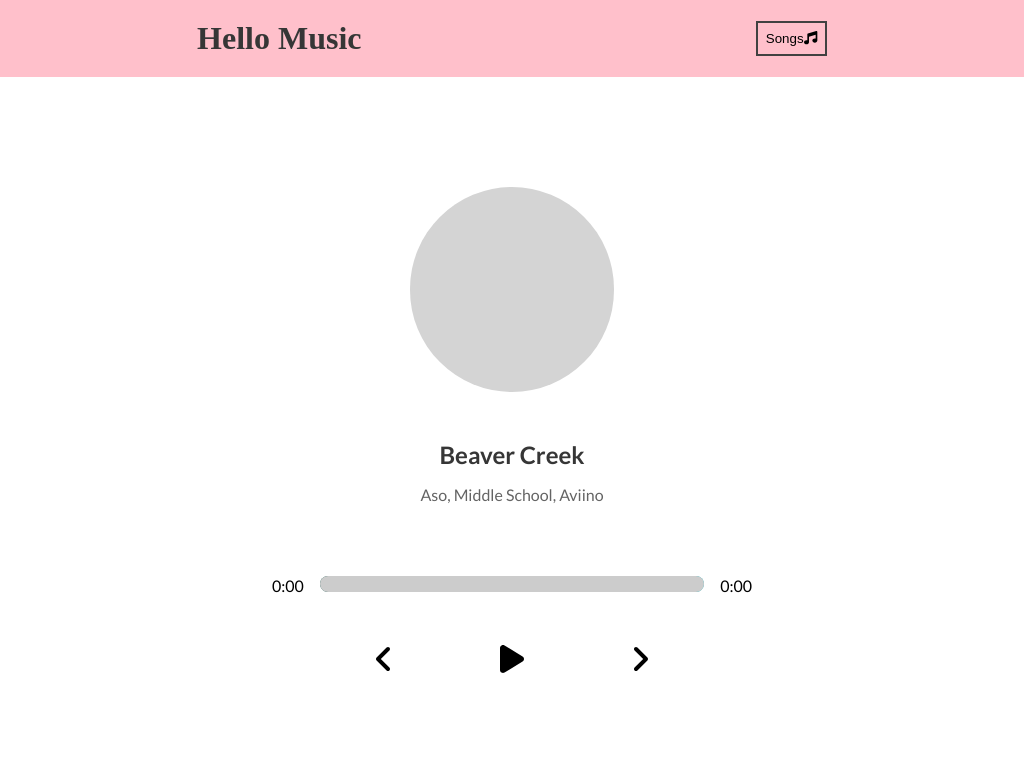
Test: Music Player App › should skip to the next song
This screenshot has width=1024, height=768.
Click the picture with class "skip-forward".
click(640, 659)  # box [630, 643, 650, 675]
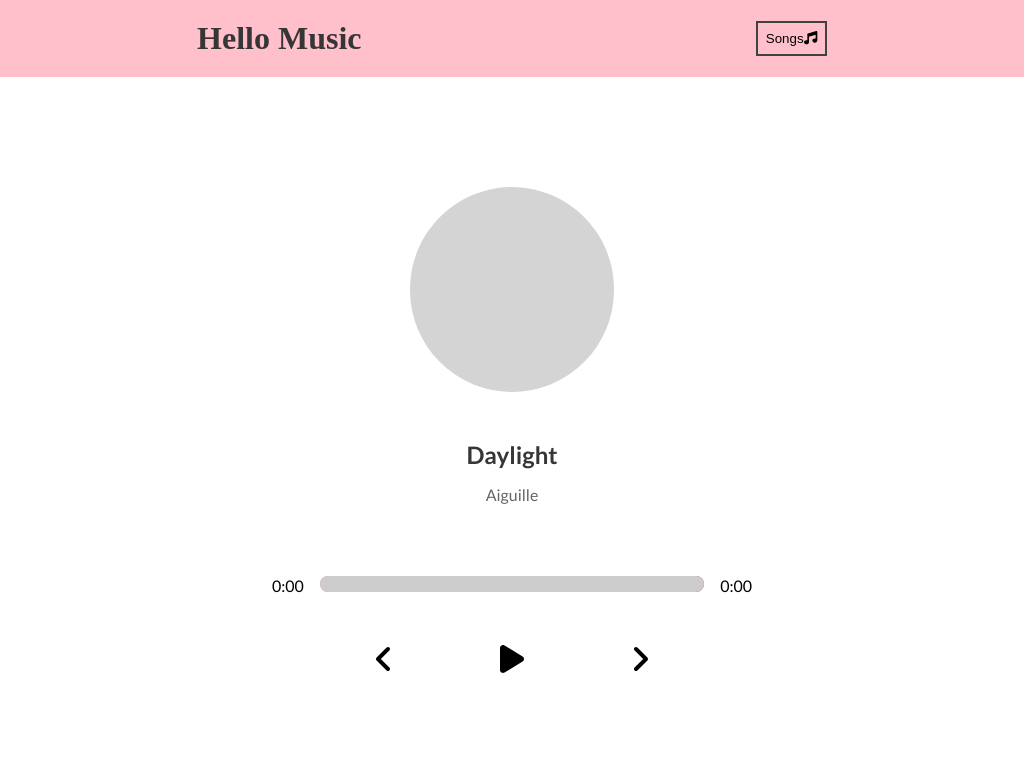
Expected: the heading with class "song-container" reads "Daylight", [466, 440, 557, 469]
